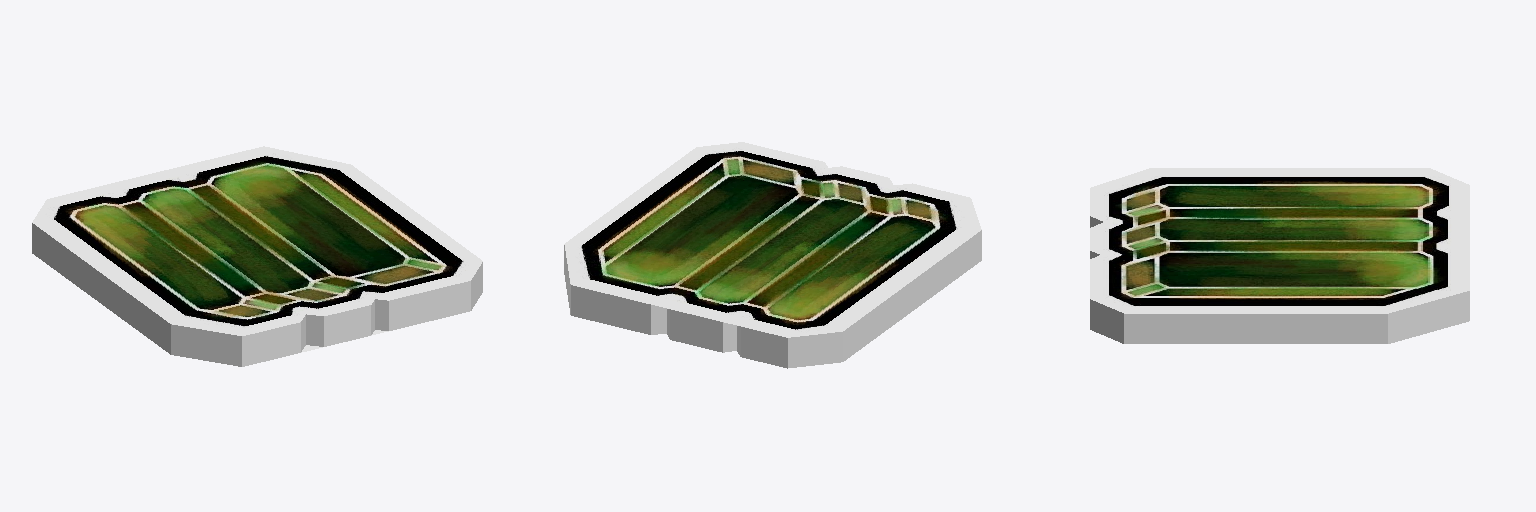
3 renders of one model, left to right at view 1: azimuth 30°, elevation 25°; view 2: azimuth 150°, elevation 25°; view 3: azimuth 270°, elevation 25°, orthographic.
Parts seen in each view (by area): view 1: MeshBody1; view 2: MeshBody1; view 3: MeshBody1.
Boxes of the visible parts, x1=… form: MeshBody1: x1=32, y1=146, x2=482, y2=366; MeshBody1: x1=564, y1=142, x2=981, y2=368; MeshBody1: x1=1090, y1=168, x2=1469, y2=343.
Size of the model in its own units: 0.51 by 0.05 by 0.56.
2 materials, 1 textured.